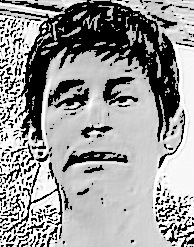nose_M_C: (79, 100, 114, 146)
